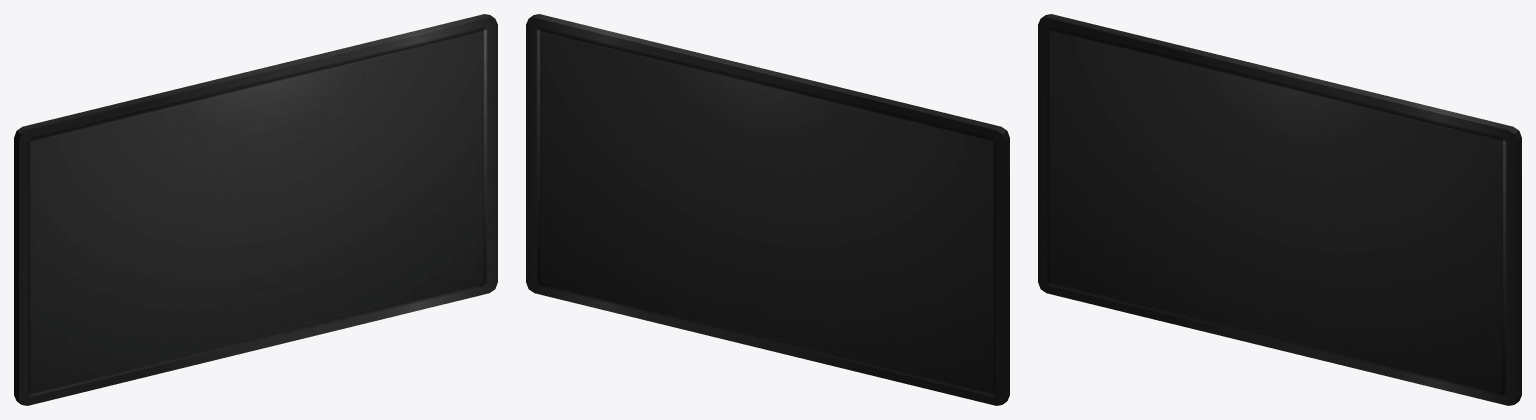
The model's file is 大屏电视.obj.
3 renders of one model, left to right at view 1: azimuth 30°, elevation 25°; view 2: azimuth 150°, elevation 25°; view 3: azimuth 330°, elevation 25°, orthographic.
Bounding box in the file's own units: 289 × 159 × 5.14.
